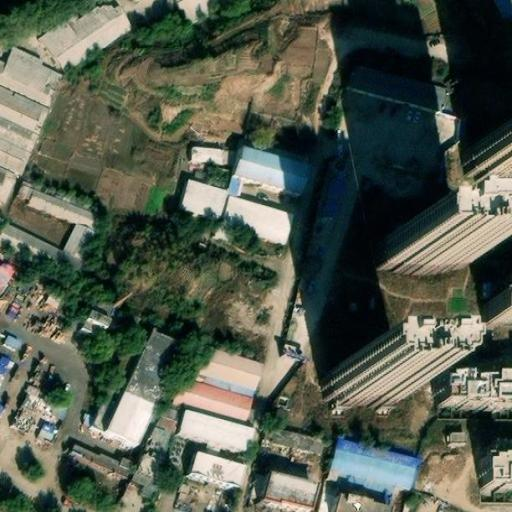building: (110, 330, 183, 445), (37, 3, 133, 69), (95, 323, 150, 433), (327, 437, 420, 495), (0, 223, 94, 277), (348, 64, 447, 115), (187, 340, 264, 397), (227, 147, 312, 198), (214, 194, 294, 245), (8, 379, 71, 442), (171, 376, 253, 422), (131, 409, 176, 486), (377, 231, 470, 267), (22, 186, 99, 228), (0, 48, 58, 103), (181, 406, 252, 449), (323, 371, 407, 406), (434, 377, 512, 408), (69, 446, 138, 478), (264, 468, 321, 504), (181, 177, 229, 219), (191, 454, 248, 487), (265, 425, 322, 457), (458, 149, 512, 180), (82, 307, 119, 345), (320, 168, 347, 220), (334, 490, 392, 512), (484, 287, 512, 322), (487, 458, 512, 488), (194, 146, 231, 166), (0, 327, 23, 350), (42, 287, 63, 312), (492, 0, 512, 20), (445, 425, 467, 443), (0, 349, 14, 377)
